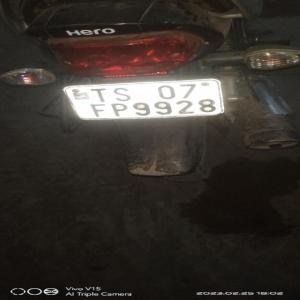Plate: (70, 76, 227, 124)
